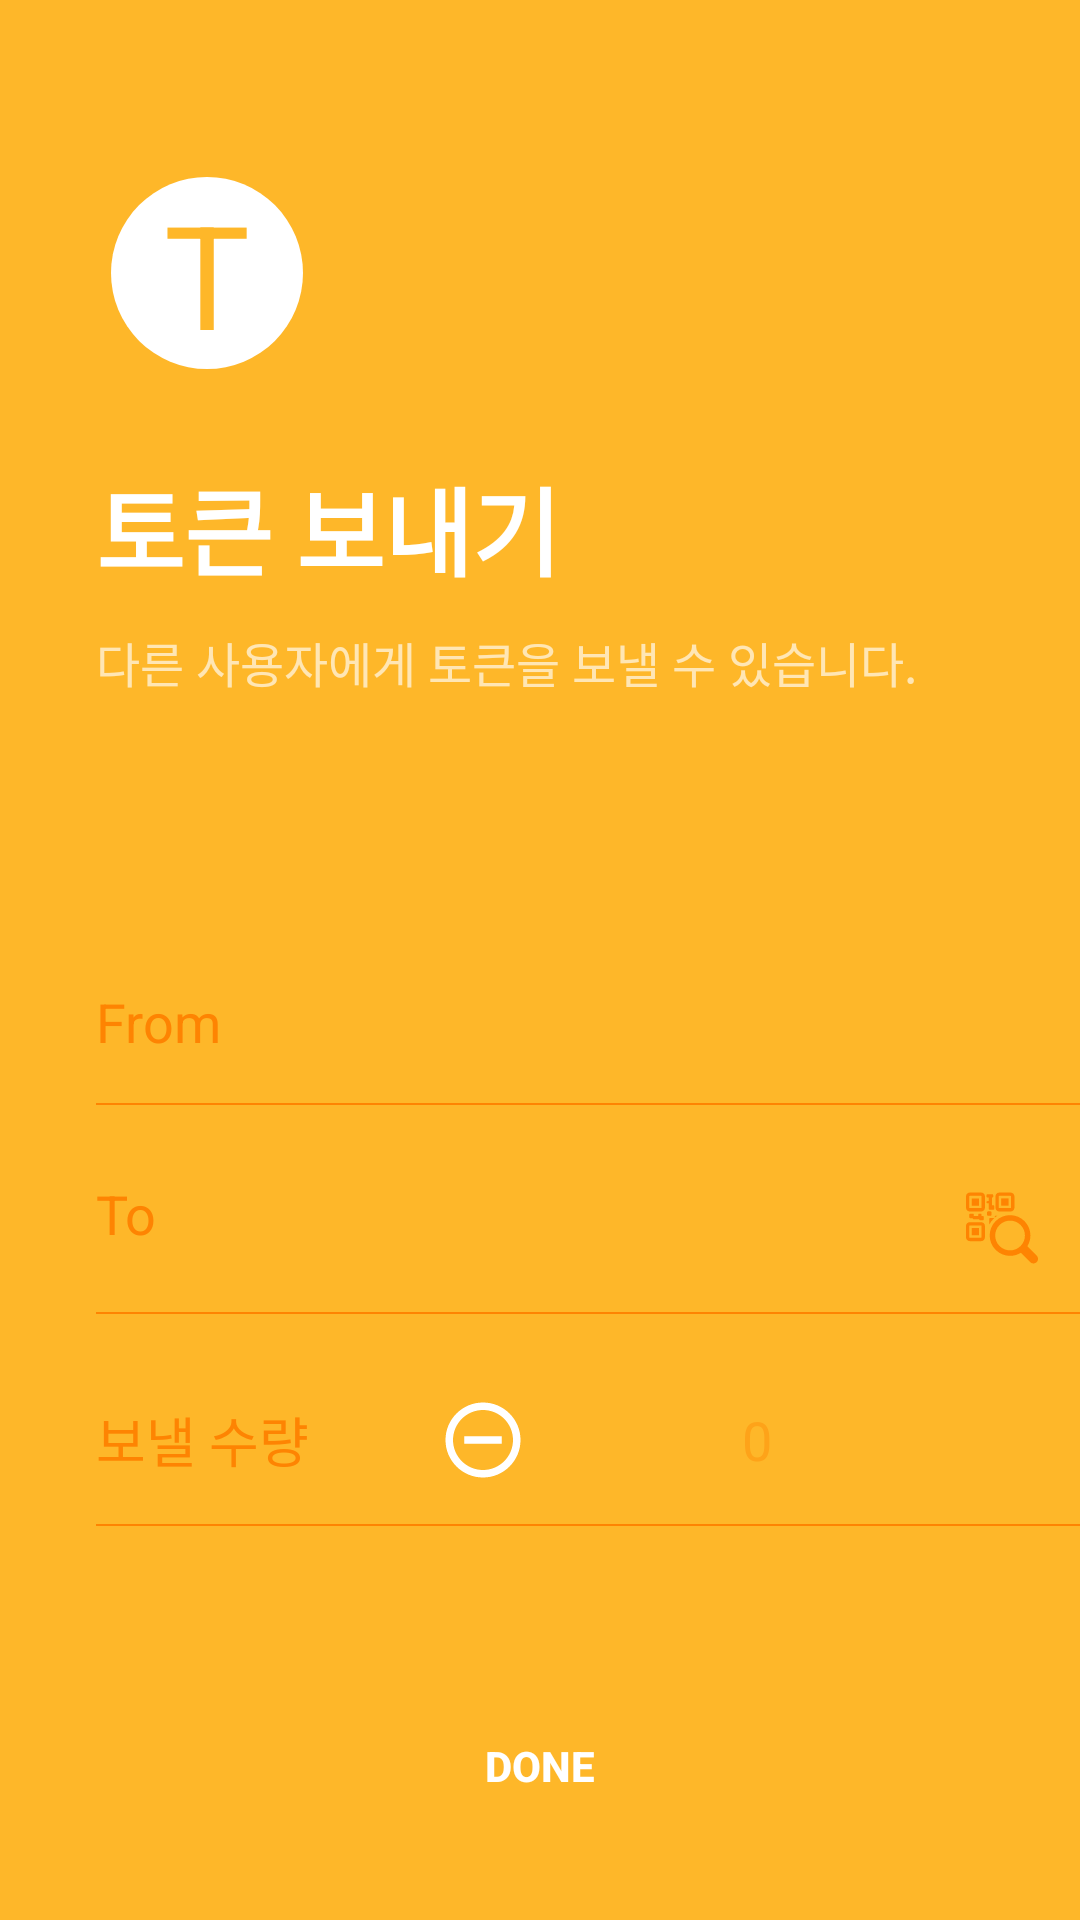

Point at icon controls on the screen. Image size 1080 × 1920, points as [x,y].
minus token: [483,1440]
qr code scan: [1002,1228]
